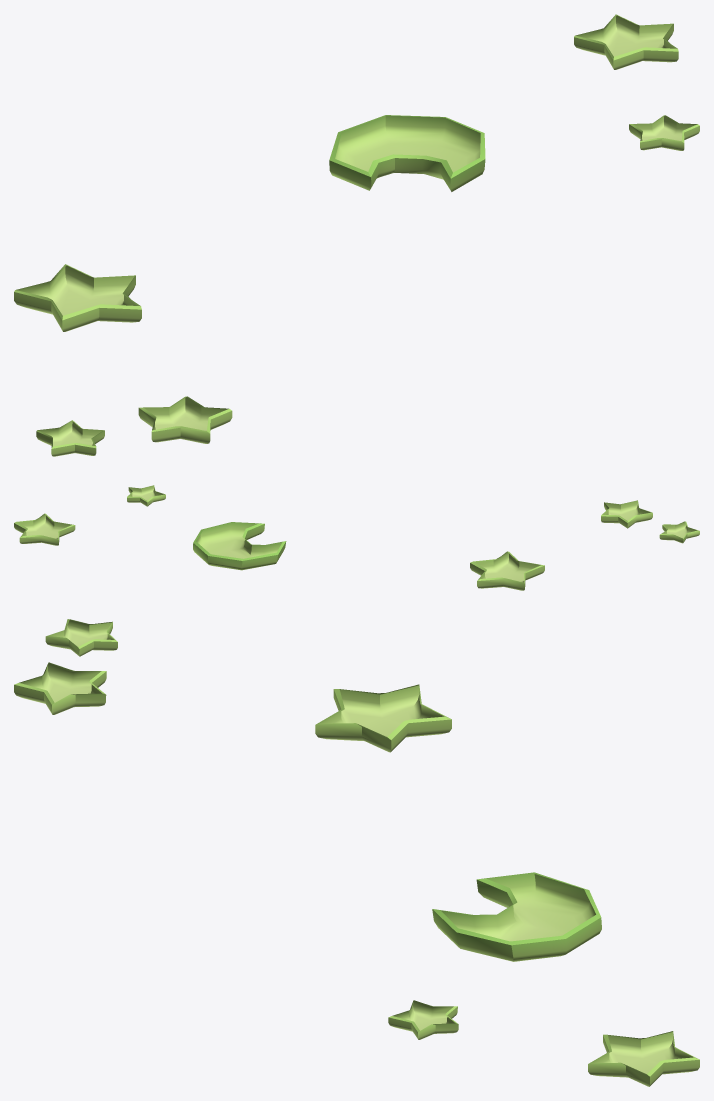
The model's file is ceiling stars.fbx.
The picture shows the model from 3 angles, top to bottom: view 1: azimuth 30°, elevation 25°; view 2: azimuth 150°, elevation 25°; view 3: azimuth 270°, elevation 25°; orthographic projection. The views are drawn at different scales.
Visible parts, largest first — view 1: glow_in_the_dark_stars; view 2: glow_in_the_dark_stars; view 3: glow_in_the_dark_stars.
Part boxes in pixels (x1,y1,x2,y2): glow_in_the_dark_stars: (14, 14, 699, 456); glow_in_the_dark_stars: (14, 485, 699, 590); glow_in_the_dark_stars: (14, 619, 699, 1086).
Size of the model in its own units: 725 by 20.6 by 460.
